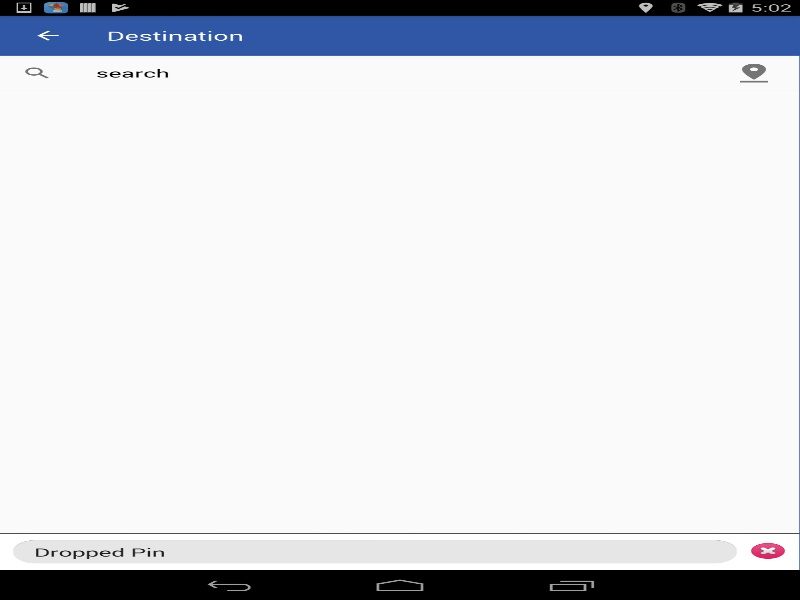Button: (10, 15, 85, 55), (719, 61, 788, 84), (736, 540, 799, 561)
Input: (13, 540, 736, 563), (96, 65, 666, 80)
